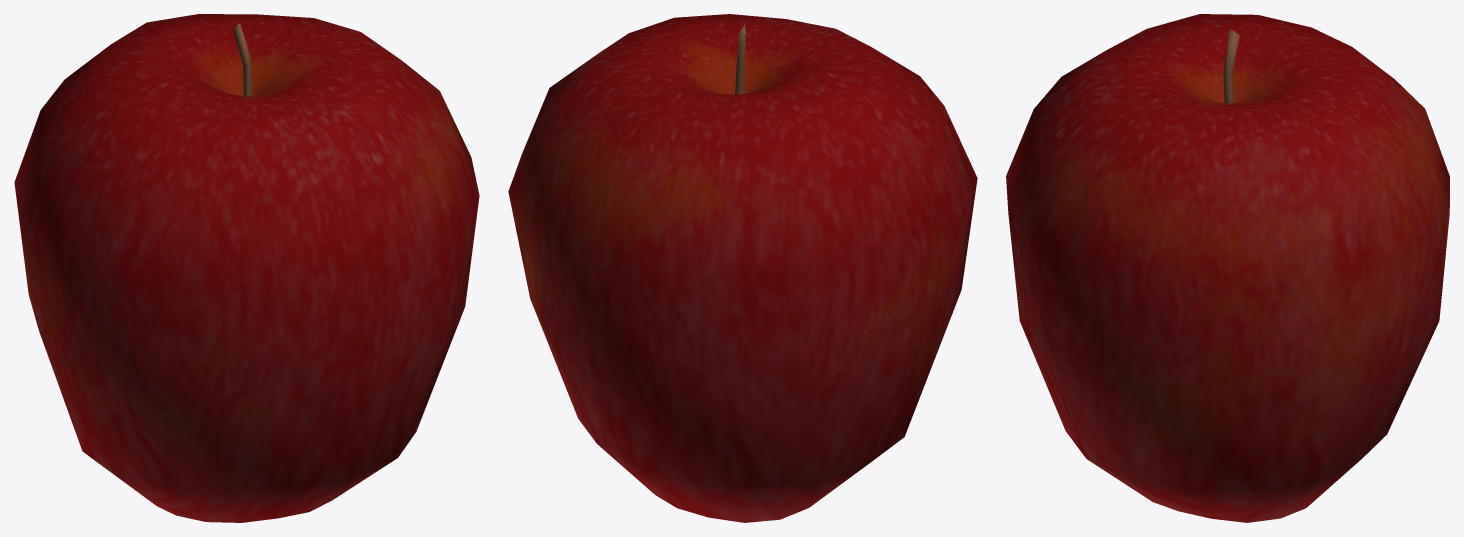
File: Apple_4.obj
3 renders of one model, left to right at view 1: azimuth 30°, elevation 25°; view 2: azimuth 150°, elevation 25°; view 3: azimuth 270°, elevation 25°, orthographic. The views are drawn at different scales.
Visible parts, largest first — view 1: apple_a4; view 2: apple_a4; view 3: apple_a4.
Part boxes in pixels (x1,y1,x2,y2): apple_a4: (14,14,479,522); apple_a4: (508,14,977,522); apple_a4: (1006,14,1449,522).
Bounding box in the file's own units: 0.12 × 0.1333 × 0.1164.
